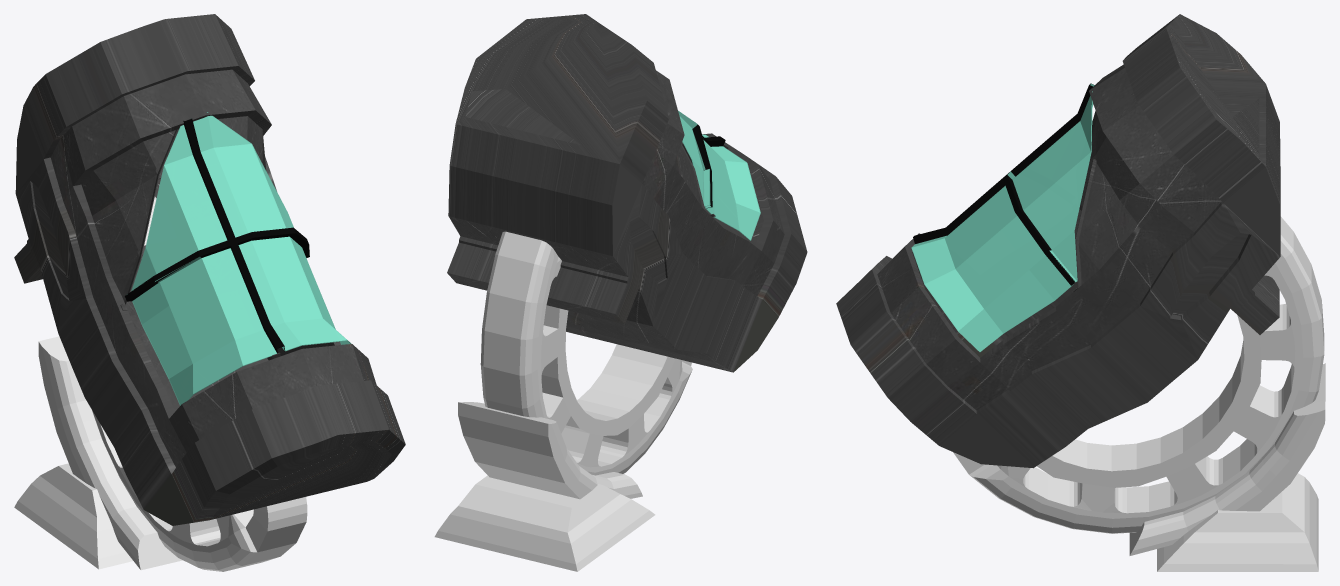
Rendered from siuuuuenfermeria 1.fbx.
The picture shows the model from 3 angles, left to right: view 1: azimuth 30°, elevation 25°; view 2: azimuth 150°, elevation 25°; view 3: azimuth 270°, elevation 25°; orthographic projection. The views are drawn at different scales.
Parts seen in each view (by area): view 1: Cylinder.005, Cylinder.006, Cylinder.008, Cylinder.001, Cylinder.003; view 2: Cylinder.005, Cylinder.001, Cylinder.003, Cylinder.008, Cylinder.006; view 3: Cylinder.005, Cylinder.001, Cylinder.006, Cylinder.003, Cylinder.008.
Boxes of the visible parts, x1,y1,x2,y2 form: Cylinder.005: [14, 14, 405, 525]; Cylinder.006: [125, 112, 351, 405]; Cylinder.008: [38, 336, 182, 570]; Cylinder.001: [92, 197, 307, 571]; Cylinder.003: [14, 463, 132, 569]; Cylinder.005: [447, 14, 807, 372]; Cylinder.001: [480, 231, 692, 475]; Cylinder.003: [434, 475, 655, 571]; Cylinder.008: [458, 402, 642, 499]; Cylinder.006: [678, 110, 760, 240]; Cylinder.005: [836, 14, 1280, 468]; Cylinder.001: [953, 216, 1324, 533]; Cylinder.006: [911, 83, 1094, 351]; Cylinder.003: [1157, 473, 1318, 571]; Cylinder.008: [1129, 363, 1325, 555].
Size of the model in its own units: 130 by 338 by 297.
4 materials, 1 textured.
